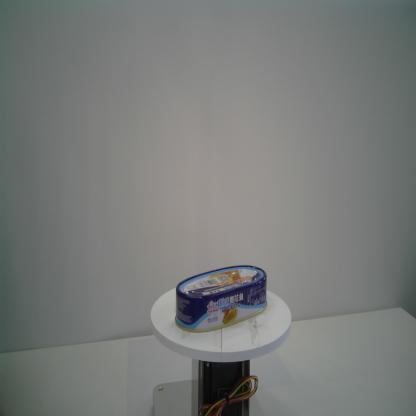Canned Food: (174, 264, 268, 334)
